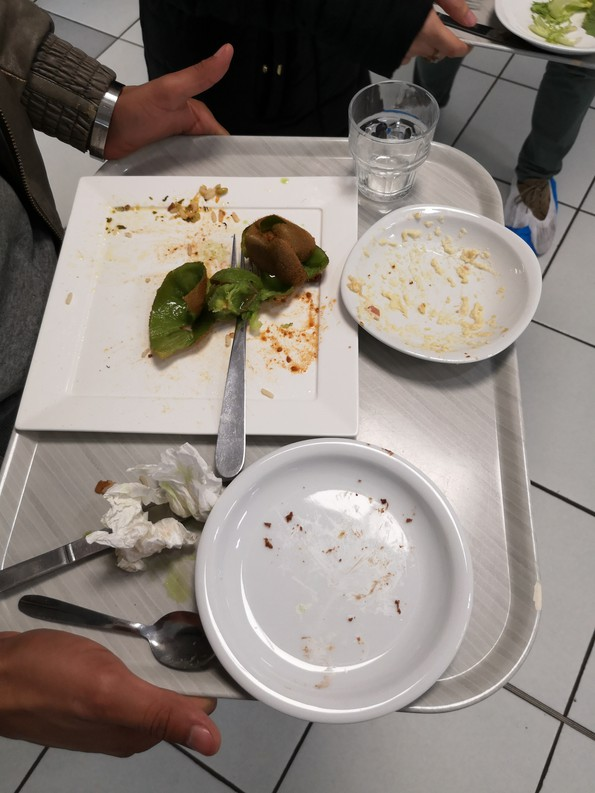cup: (343, 68, 458, 198)
cutlery: (4, 526, 216, 681), (224, 235, 247, 476)
orga: (157, 222, 311, 349)
trash: (97, 458, 226, 593)
